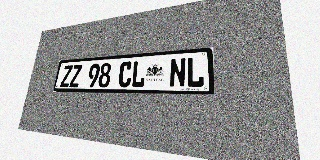8: (98, 62, 112, 87)
9: (87, 63, 101, 87)
C: (118, 61, 133, 87)
L: (186, 56, 204, 87), (131, 60, 146, 87)
N: (169, 58, 186, 87)
Z: (69, 64, 83, 87), (60, 65, 73, 87)
